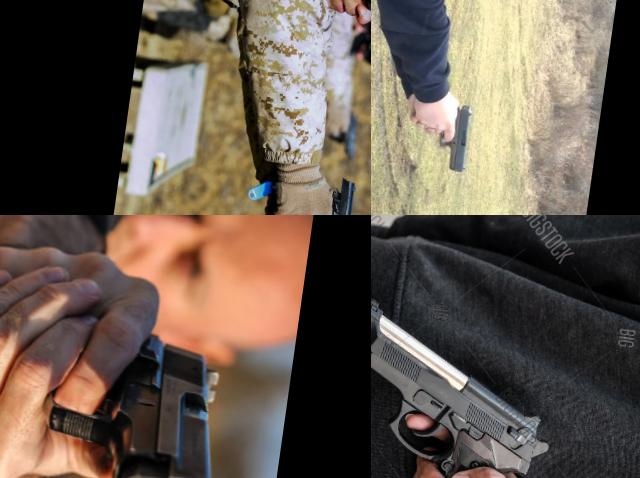handgun: (14, 312, 245, 478), (371, 289, 572, 478), (428, 97, 477, 176), (288, 169, 359, 215)
